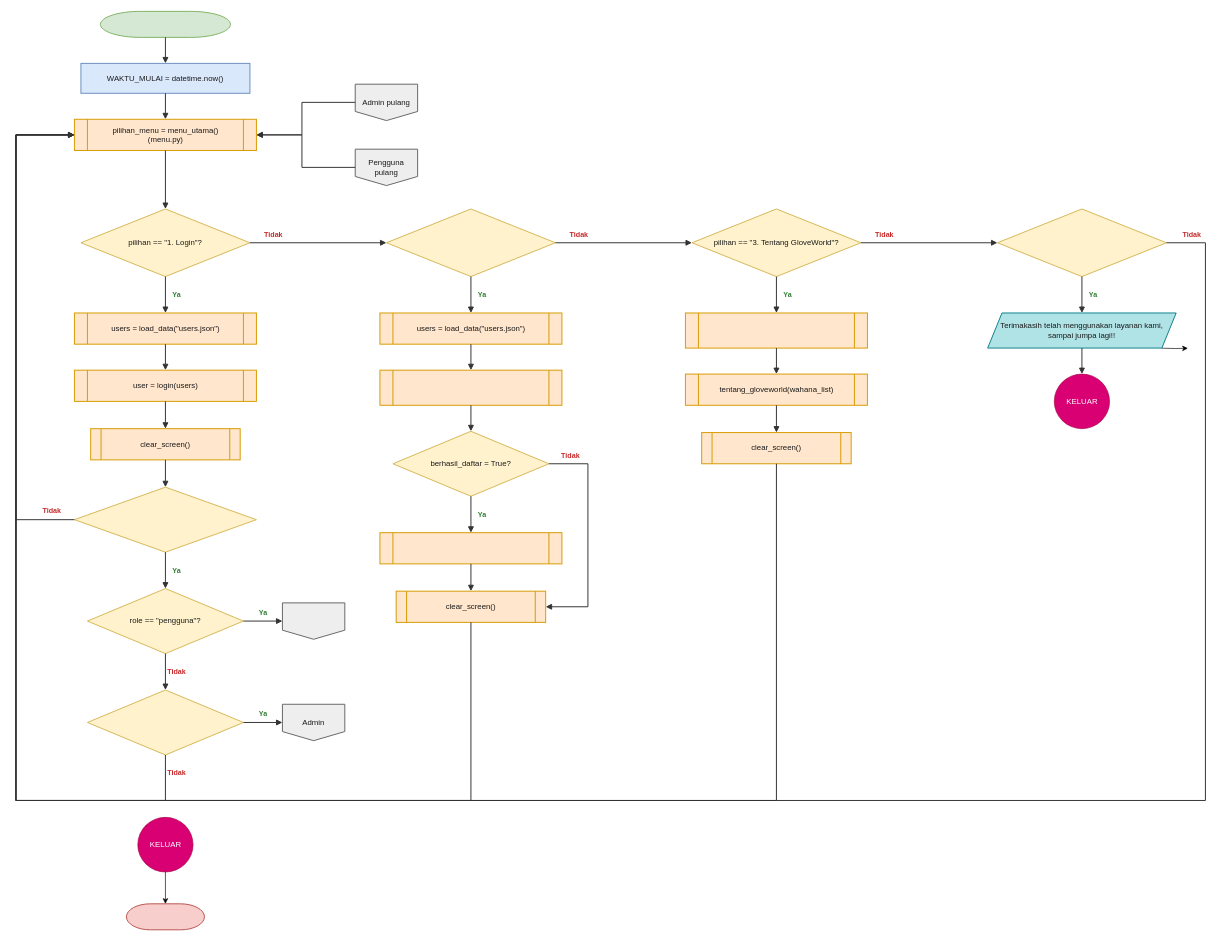
The diagram is 1223 pixels wide and 942 high, and some of its shapes have lost their labels. The box of each missing label's shape, as (x1, y1, x2, y2) in pixels:
berhasil_daftar = register(users): (379, 369, 562, 405)
END: (126, 903, 205, 930)
Pengguna: (282, 602, 345, 639)
pilihan == "2. Register"?: (386, 208, 556, 277)
pilihan == "4. Exit"?: (997, 208, 1167, 277)
role == "admin"?: (87, 689, 244, 755)
save_data("users.json", users): (379, 532, 562, 564)
START: (100, 11, 231, 38)
user ada (login berhasil)?: (74, 486, 257, 552)
wahana_list = load_data("wahana.json"): (685, 312, 868, 348)
